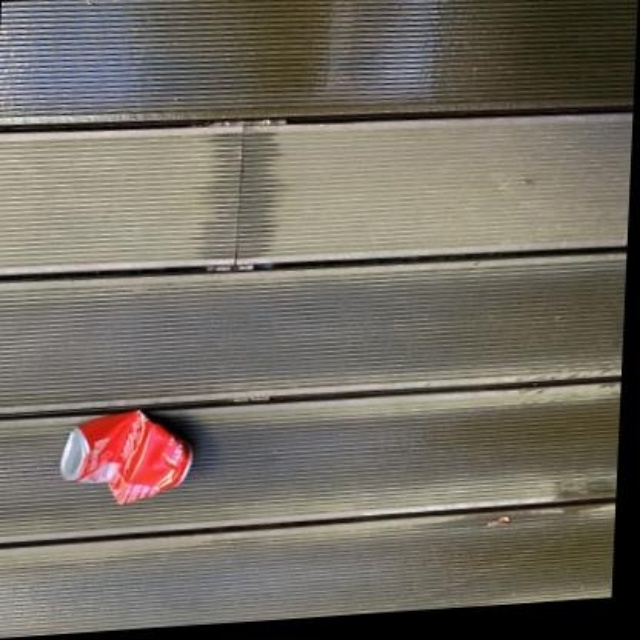trash: (60, 411, 191, 503)
